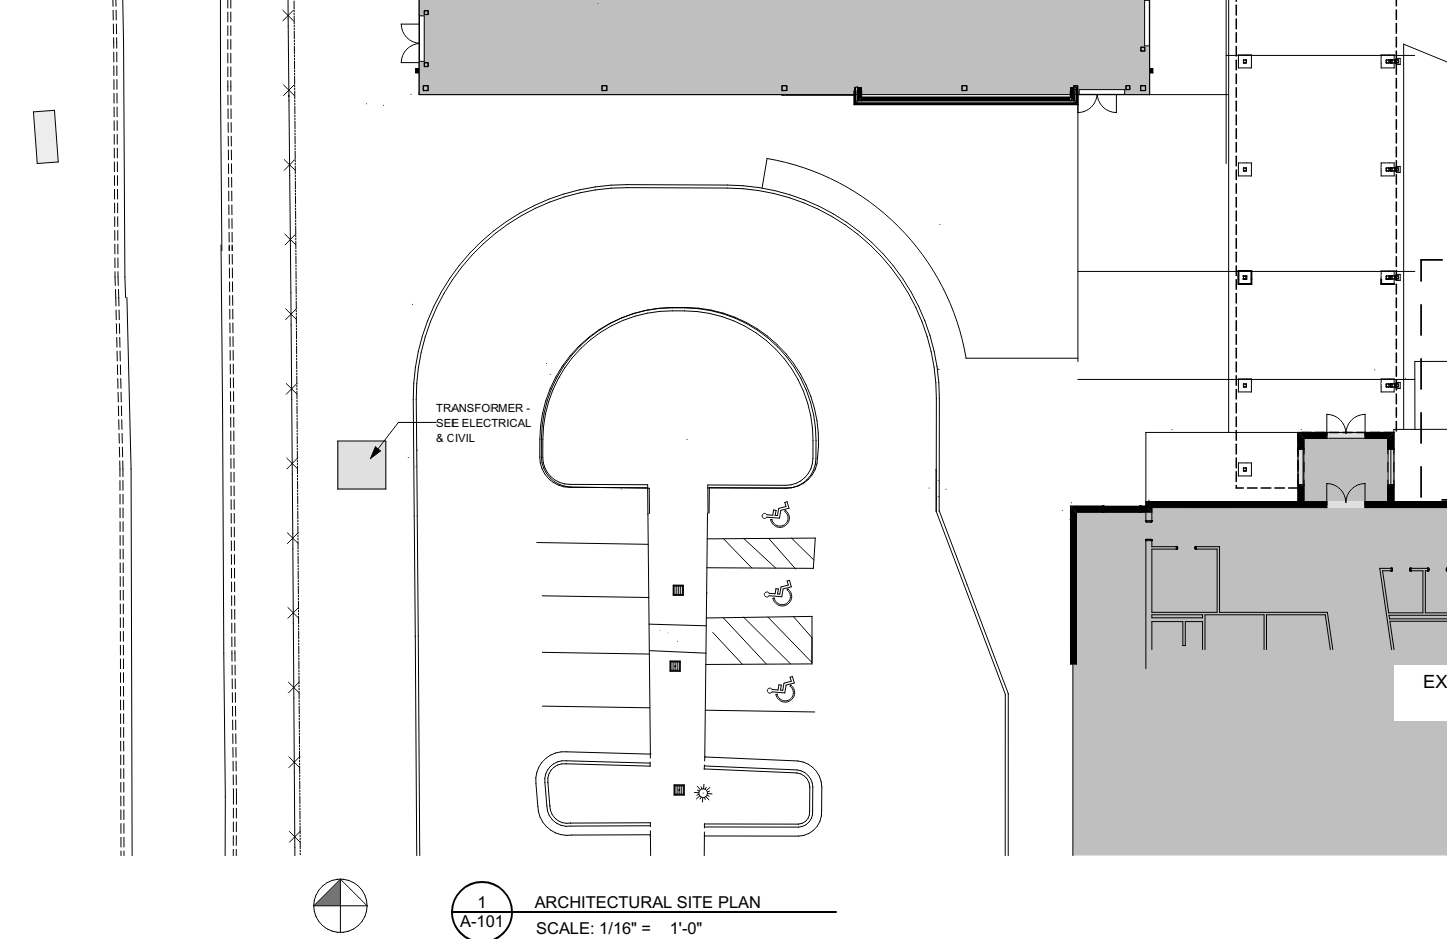double door: (1323, 478, 1369, 516), (1323, 411, 1369, 444), (1075, 87, 1119, 118), (398, 20, 426, 68)
